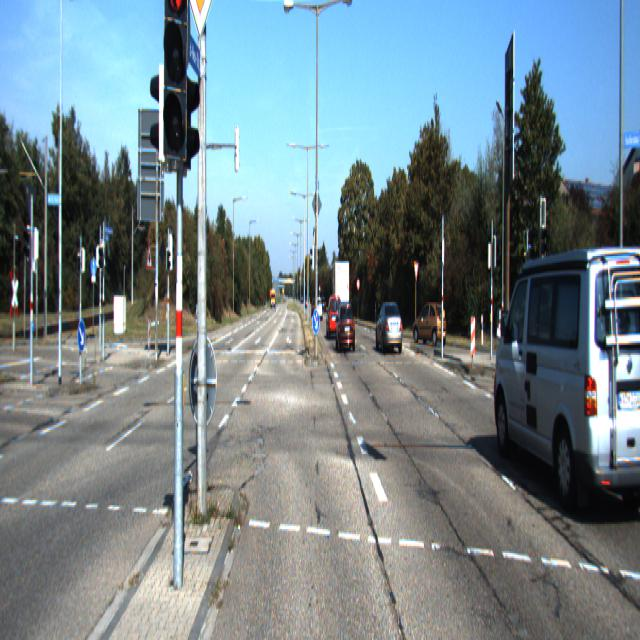Car: (492, 228, 640, 532), (413, 300, 447, 346), (375, 300, 403, 355), (332, 258, 349, 322), (336, 302, 356, 353), (326, 294, 342, 342)
